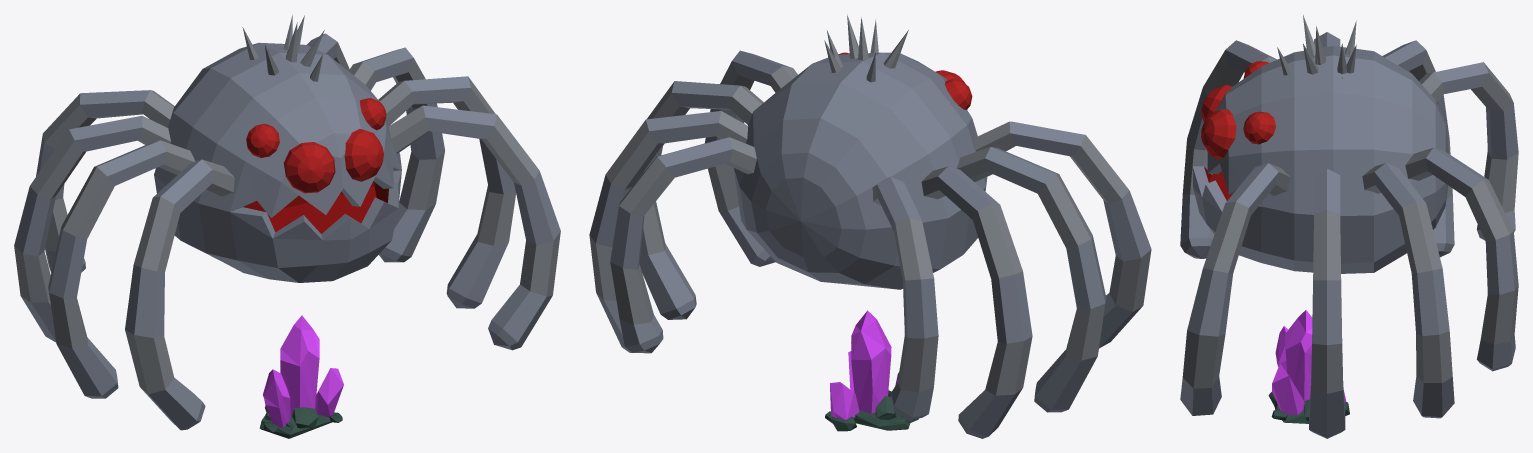
Rendered from spider Statue01.FBX.
The picture shows the model from 3 angles, left to right: view 1: azimuth 30°, elevation 25°; view 2: azimuth 150°, elevation 25°; view 3: azimuth 270°, elevation 25°; orthographic projection. The views are drawn at different scales.
Visible parts, largest first — view 1: spider Statue01, Gem_03; view 2: spider Statue01, Gem_03; view 3: spider Statue01, Gem_03.
Part boxes in pixels (<box>): spider Statue01: <box>14,15,560,430</box>; Gem_03: <box>259,315,343,438</box>; spider Statue01: <box>589,14,1151,438</box>; Gem_03: <box>825,310,918,431</box>; spider Statue01: <box>1180,15,1518,438</box>; Gem_03: <box>1268,310,1349,423</box>.
Bounding box in the file's own units: 309 × 251 × 198.
